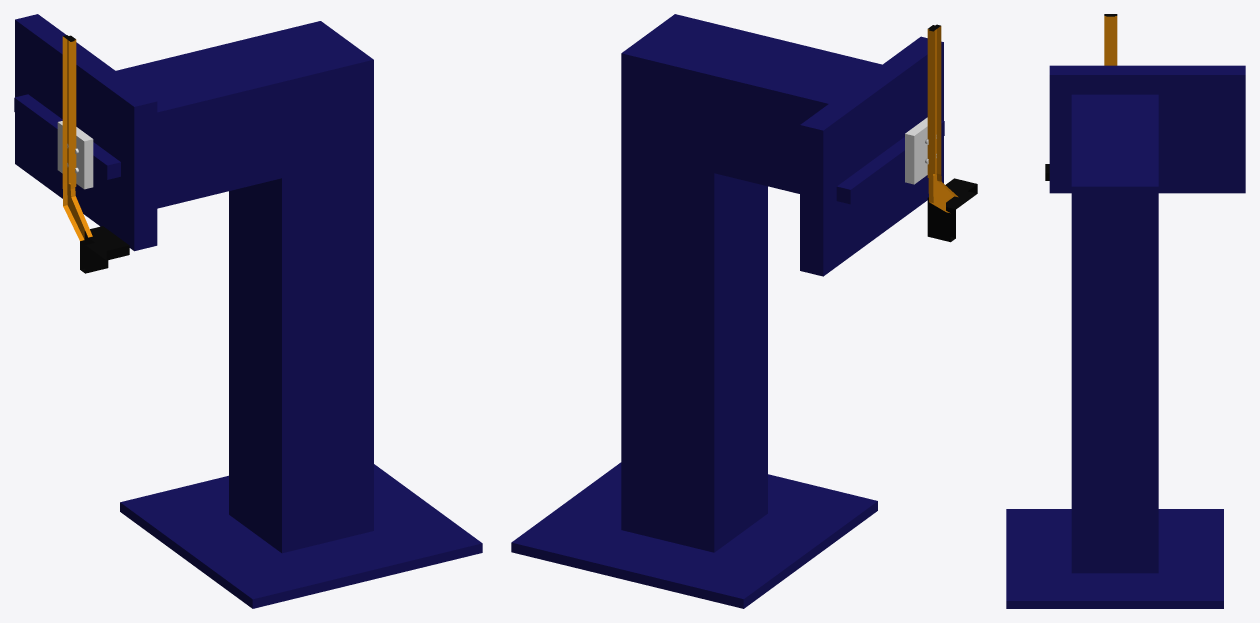
Rendered from modelo garra.dae.
The picture shows the model from 3 angles, left to right: view 1: azimuth 30°, elevation 25°; view 2: azimuth 150°, elevation 25°; view 3: azimuth 270°, elevation 25°; orthographic projection. The views are drawn at different scales.
Visible parts, largest first — view 1: base, efector, vert; view 2: base, efector, vert; view 3: base, efector.
Boxes of the visible parts, x1,y1,x2,y2 form: base: (14,14,482,608); efector: (62,35,129,273); vert: (57,121,93,189); base: (511,14,944,608); efector: (927,24,977,242); vert: (905,117,936,184); base: (1006,65,1245,608); efector: (1045,14,1117,180).
Bounding box in the file's own units: 0.7662 × 0.55 × 1.15.
